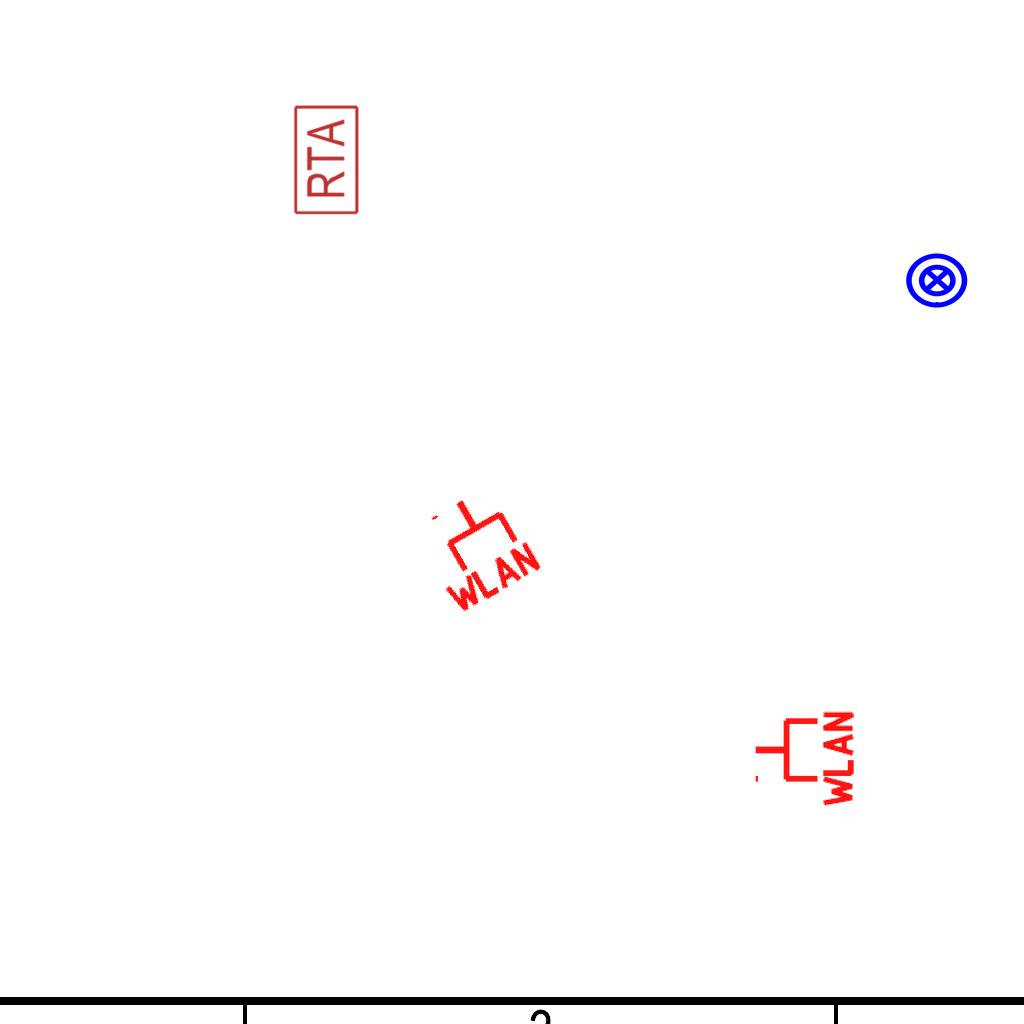Ruf-und_Abstelltaster: (292, 104, 361, 218)
Taster_beleuchtet: (904, 247, 970, 313)
WLAN: (404, 476, 547, 620), (751, 707, 856, 811)
